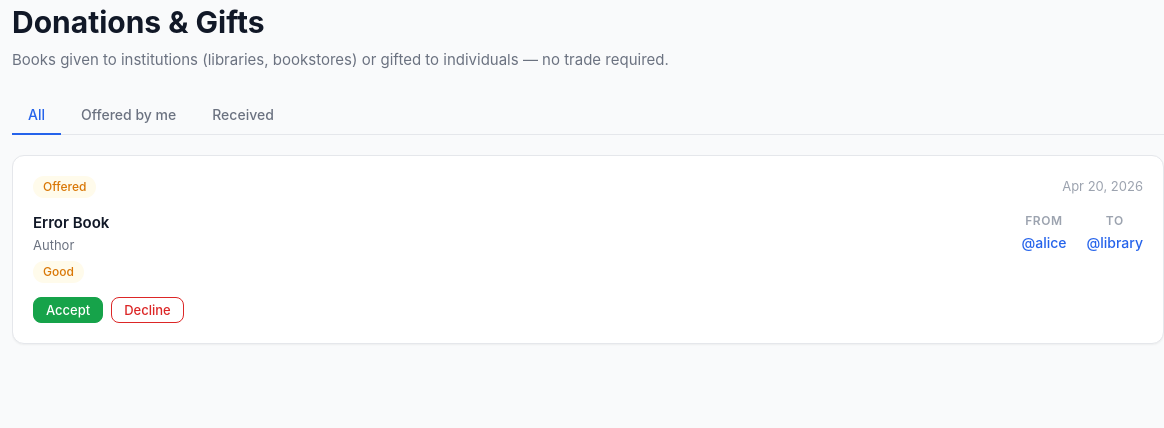
Donations page › shows action error when accept fails
Click the button "Accept": (68, 310) [33,296,103,323]
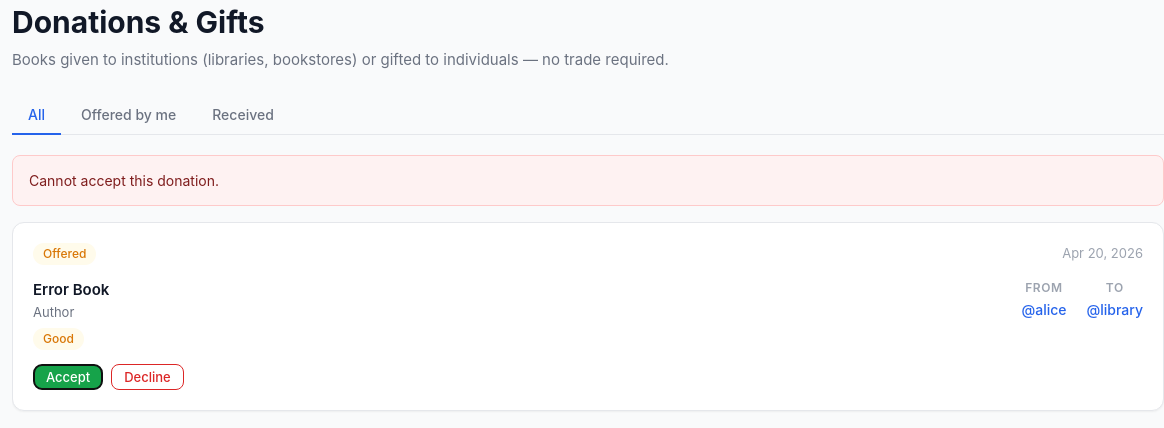
Now the text "Cannot accept this donation." is shown, box [12,154,1163,206]
